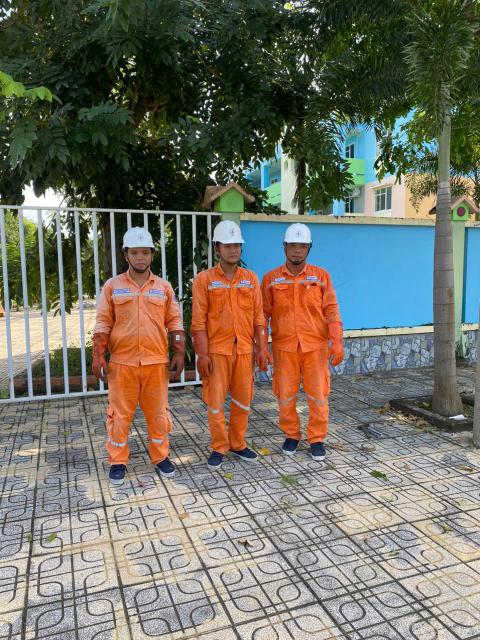gloves: (155, 322, 192, 384), (314, 316, 350, 373), (81, 326, 117, 380), (181, 321, 213, 377), (242, 321, 271, 377)
helmet: (198, 208, 248, 255), (111, 217, 162, 258), (270, 220, 316, 256)
shoes: (140, 451, 183, 486), (220, 438, 261, 470), (298, 432, 331, 468), (269, 430, 301, 462), (99, 463, 132, 493), (200, 439, 228, 473)
